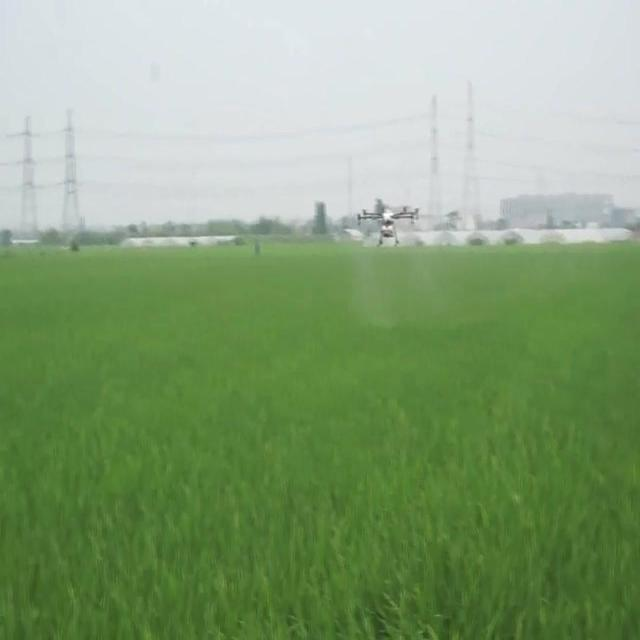drone: (355, 203, 422, 250)
